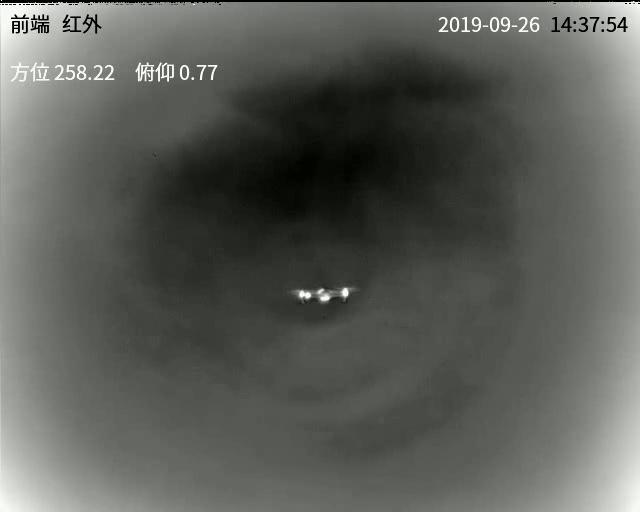DRONE: (295, 284, 353, 308)
